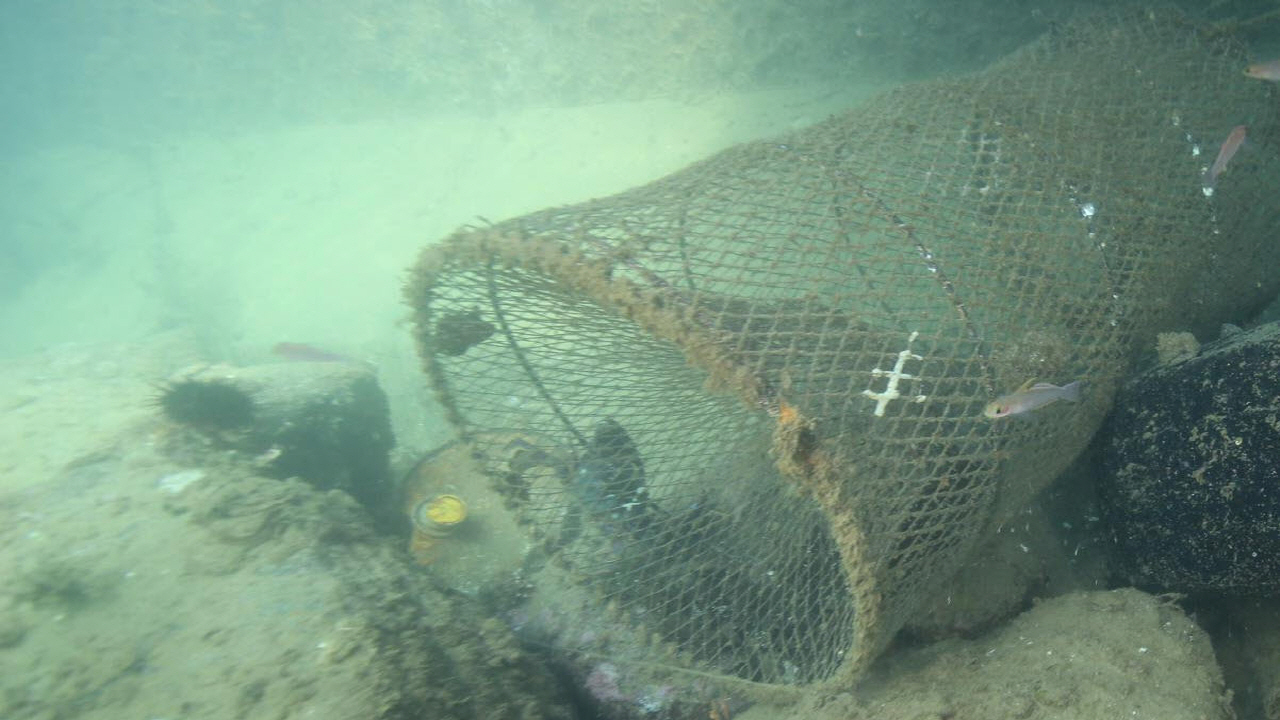spring fish trap: (406, 0, 1280, 708)
